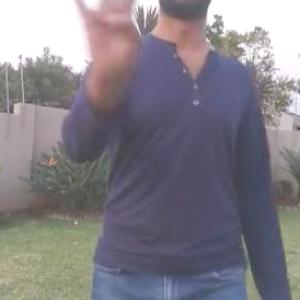takeoff-hand: (60, 0, 158, 91)
